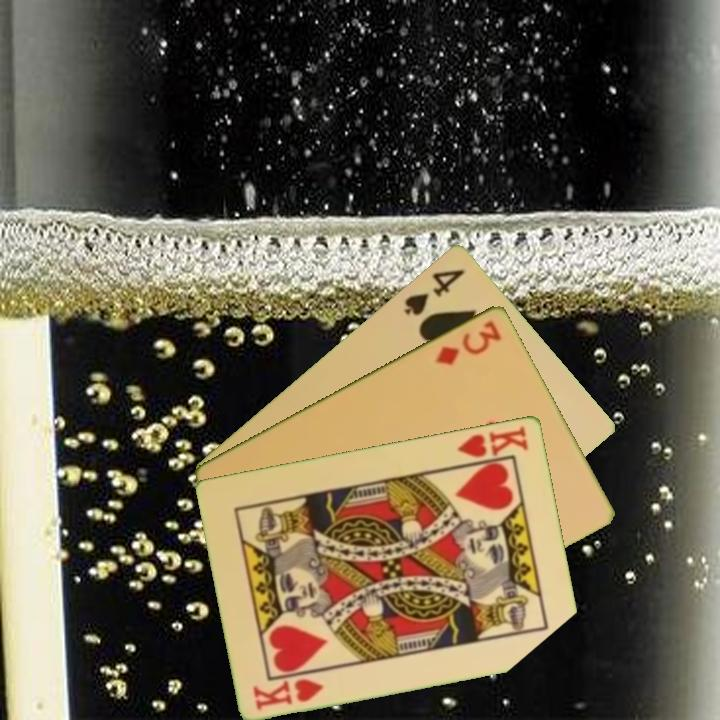3d: (432, 316, 505, 368)
4s: (400, 264, 468, 318)
Kh: (452, 422, 531, 468), (249, 674, 327, 713)
